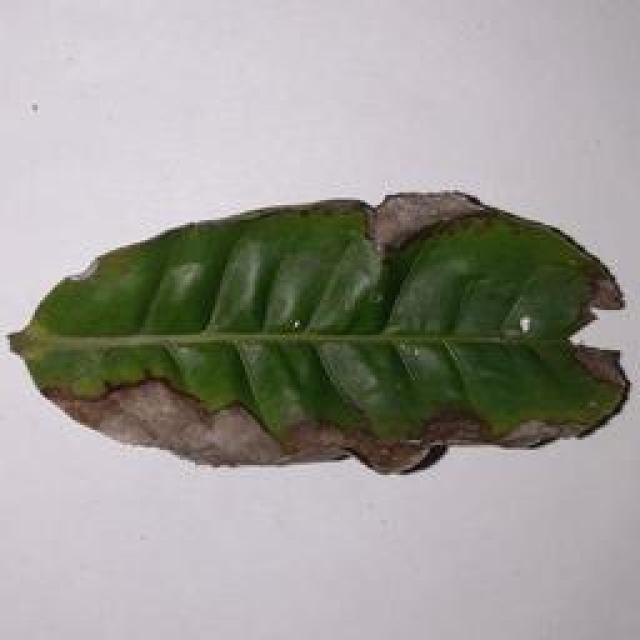Brown Blight: (0, 177, 638, 488)
